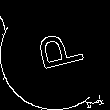P_W: (26, 31, 84, 79)
